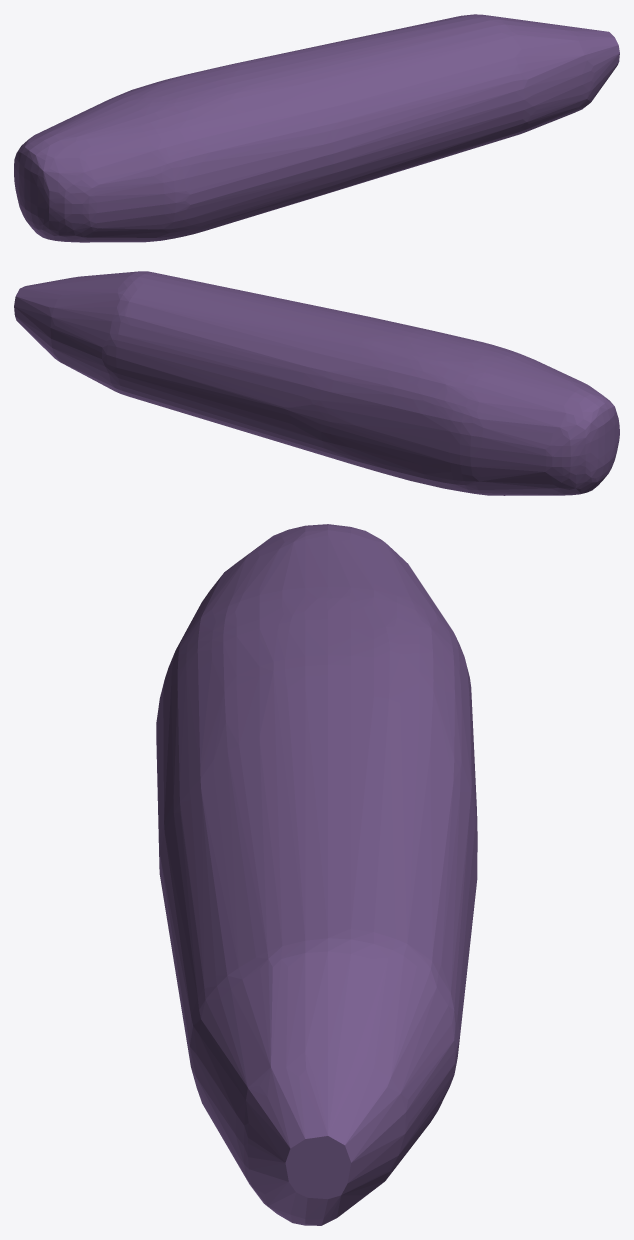
3 views of the same model, one above another, from view 1: azimuth 30°, elevation 25°; view 2: azimuth 150°, elevation 25°; view 3: azimuth 270°, elevation 25° (orthographic). The views are drawn at different scales.
Bounding box in the file's own units: 0.1537 × 0.0327 × 0.0365.
